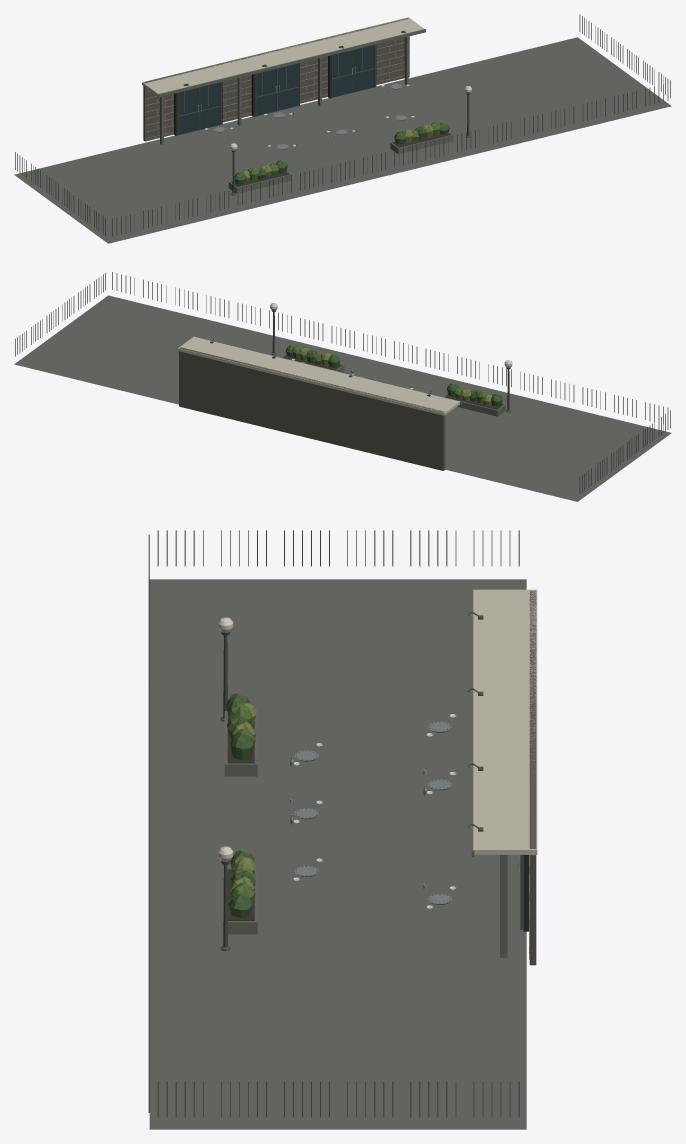
The model's file is terrace.glb.
3 renders of one model, top to bottom at view 1: azimuth 30°, elevation 25°; view 2: azimuth 150°, elevation 25°; view 3: azimuth 270°, elevation 25°, orthographic. The views are drawn at different scales.
Visible parts, largest first — view 1: PoseokjeongTerrace; view 2: PoseokjeongTerrace; view 3: PoseokjeongTerrace.
Boxes of the visible parts, <box> form: PoseokjeongTerrace: <box>14,14,671,243</box>; PoseokjeongTerrace: <box>14,272,671,501</box>; PoseokjeongTerrace: <box>148,530,537,1129</box>.
Bounding box in the file's own units: 26.92 × 2.83 × 8.02.
